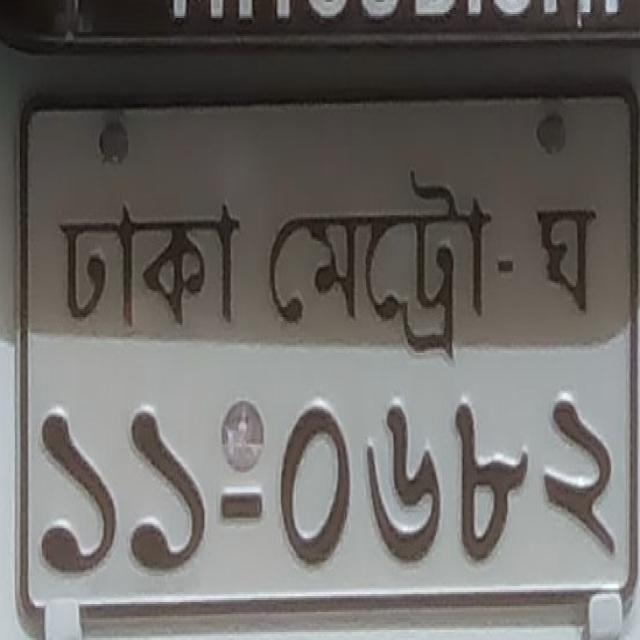numberplate: (2, 2, 639, 637)
